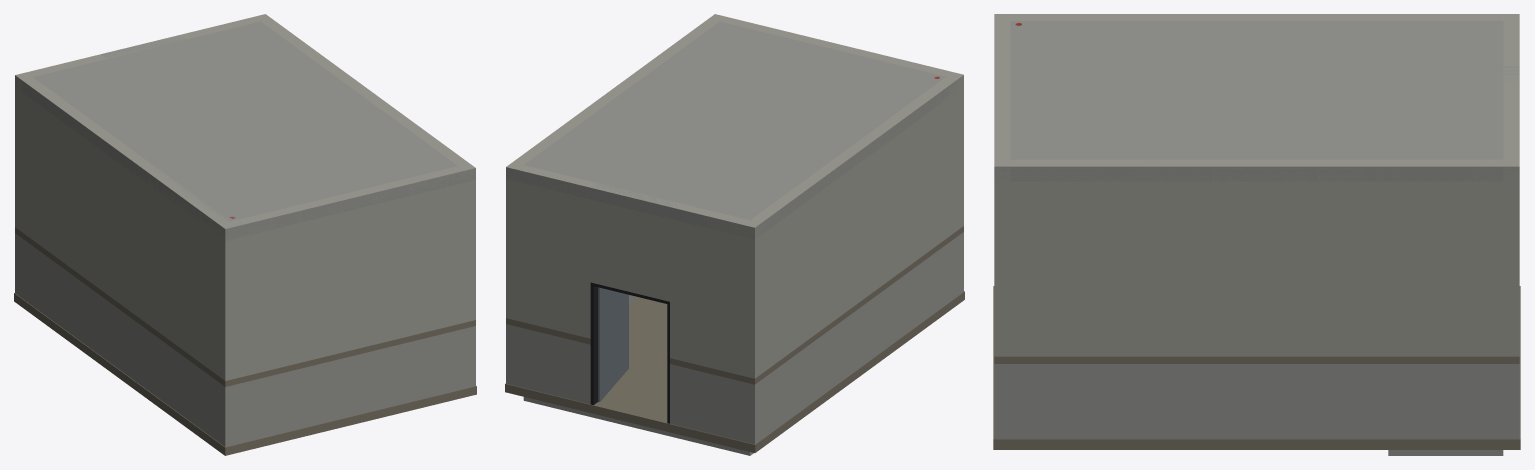
The model's file is tw_stair_top.glb.
3 views of the same model, side by side, from view 1: azimuth 30°, elevation 25°; view 2: azimuth 150°, elevation 25°; view 3: azimuth 270°, elevation 25° (orthographic). The views are drawn at different scales.
Visible parts, largest first — view 1: tw_stair_top; view 2: tw_stair_top; view 3: tw_stair_top.
Boxes of the visible parts, bbox=[...] form: tw_stair_top: bbox=[14, 14, 476, 455]; tw_stair_top: bbox=[505, 14, 964, 455]; tw_stair_top: bbox=[993, 14, 1520, 455].
Size of what is drawn, in the model's own units: 4.42 by 3.98 by 6.42.
Materials: 2 (2 with a texture image).
